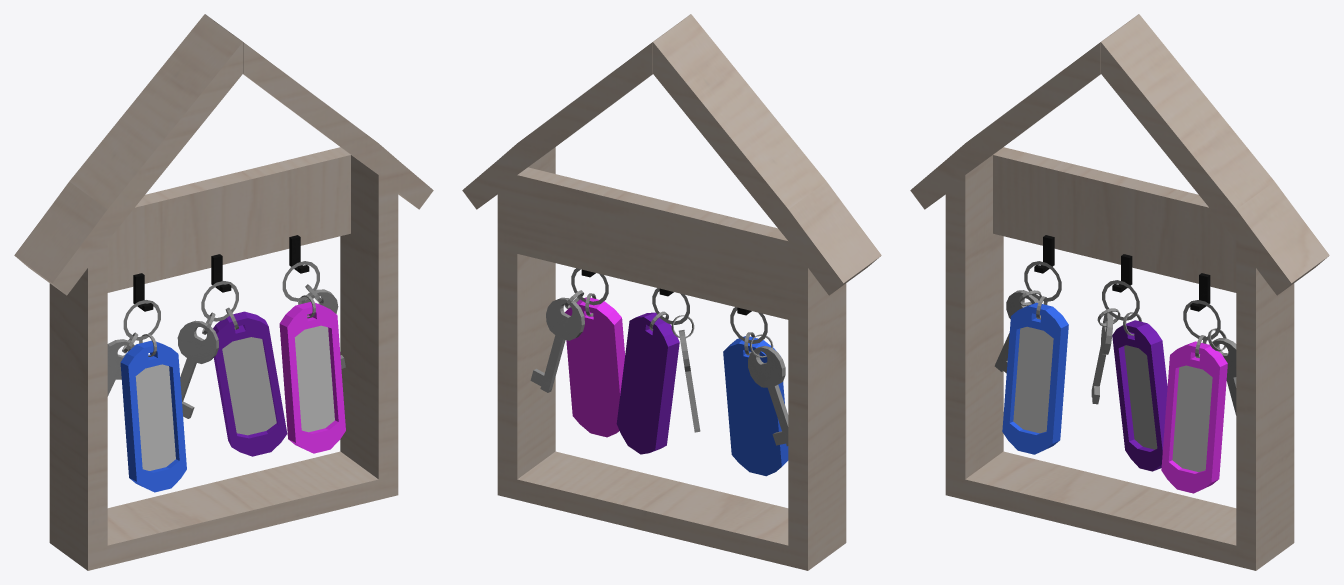
The model's file is Ingresso_Minigioco_0.fbx.
3 views of the same model, side by side, from view 1: azimuth 30°, elevation 25°; view 2: azimuth 150°, elevation 25°; view 3: azimuth 330°, elevation 25° (orthographic).
Parts seen in each view (by area): view 1: portachiavi, chiave azzurra, chiave rosa, chiave viola; view 2: portachiavi, chiave viola, chiave rosa, chiave azzurra; view 3: portachiavi, chiave azzurra, chiave rosa, chiave viola.
Part boxes in pixels (x1,y1,x2,y2): portachiavi: [14, 14, 433, 570]; chiave azzurra: [120, 340, 186, 492]; chiave rosa: [279, 302, 345, 453]; chiave viola: [213, 311, 287, 456]; portachiavi: [462, 14, 881, 570]; chiave viola: [616, 312, 679, 454]; chiave rosa: [565, 297, 625, 437]; chiave azzurra: [723, 336, 788, 476]; portachiavi: [910, 14, 1329, 570]; chiave azzurra: [1002, 302, 1068, 454]; chiave rosa: [1161, 341, 1227, 493]; chiave viola: [1112, 320, 1167, 471].
Size of the model in its own units: 36.82 by 45.31 by 6.4.
